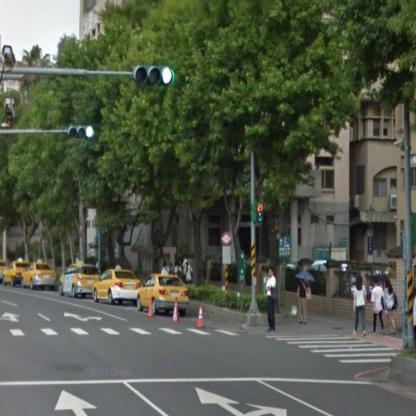Green Light: (128, 63, 175, 87), (68, 124, 92, 139)
